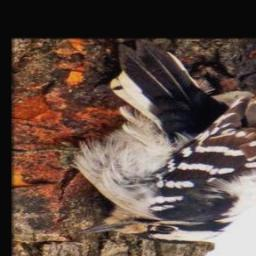Woodpecker: (16, 39, 256, 248)
